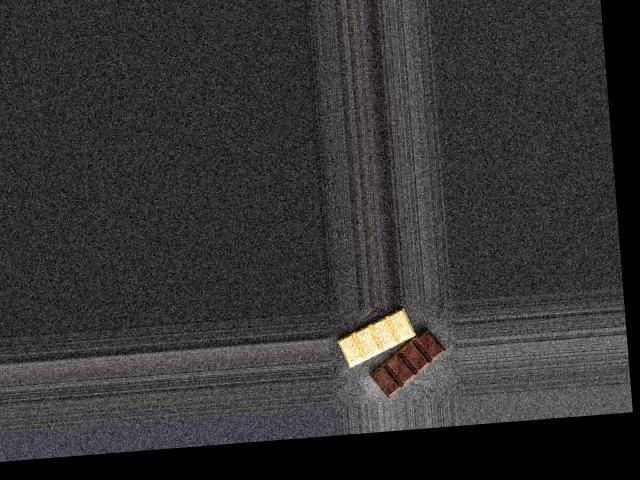chocolate: (330, 306, 448, 399)
